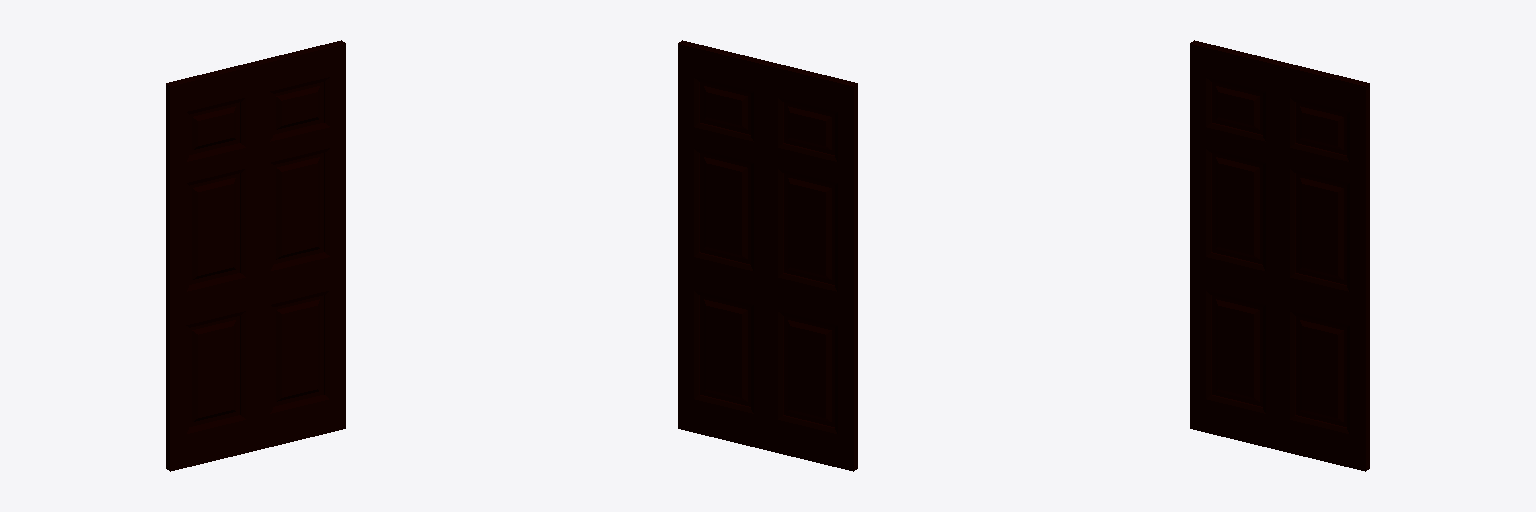
File: door_anim.obj
The picture shows the model from 3 angles: view 1: azimuth 30°, elevation 25°; view 2: azimuth 150°, elevation 25°; view 3: azimuth 330°, elevation 25°; orthographic projection.
Visible parts, largest first — view 1: doorboard; view 2: doorboard; view 3: doorboard.
Part boxes in pixels (x1,y1,x2,y2): doorboard: (166, 40, 345, 471); doorboard: (678, 40, 857, 471); doorboard: (1190, 40, 1369, 471).
Bounding box in the file's own units: 44 × 92 × 2.